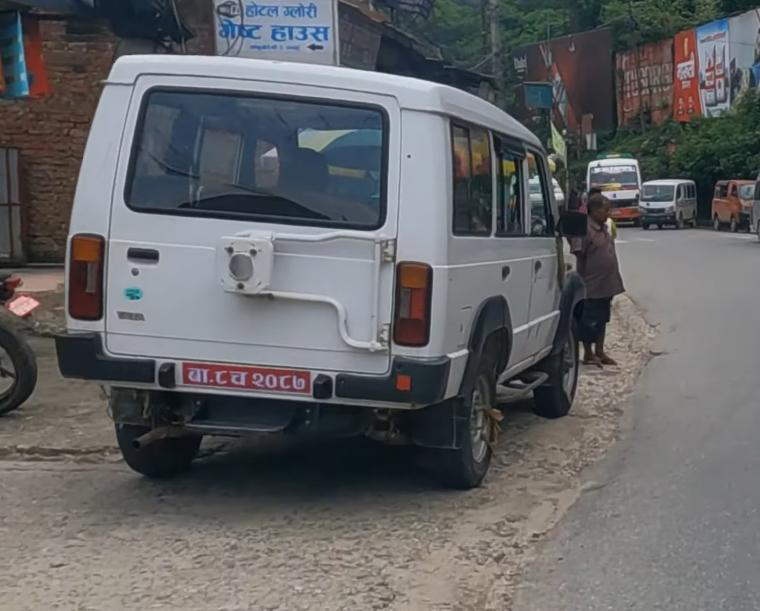SUV: (65, 47, 592, 504)
bus: (587, 155, 644, 229)
